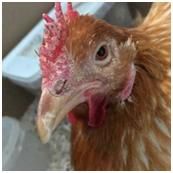AbNormal: (38, 3, 76, 82)
